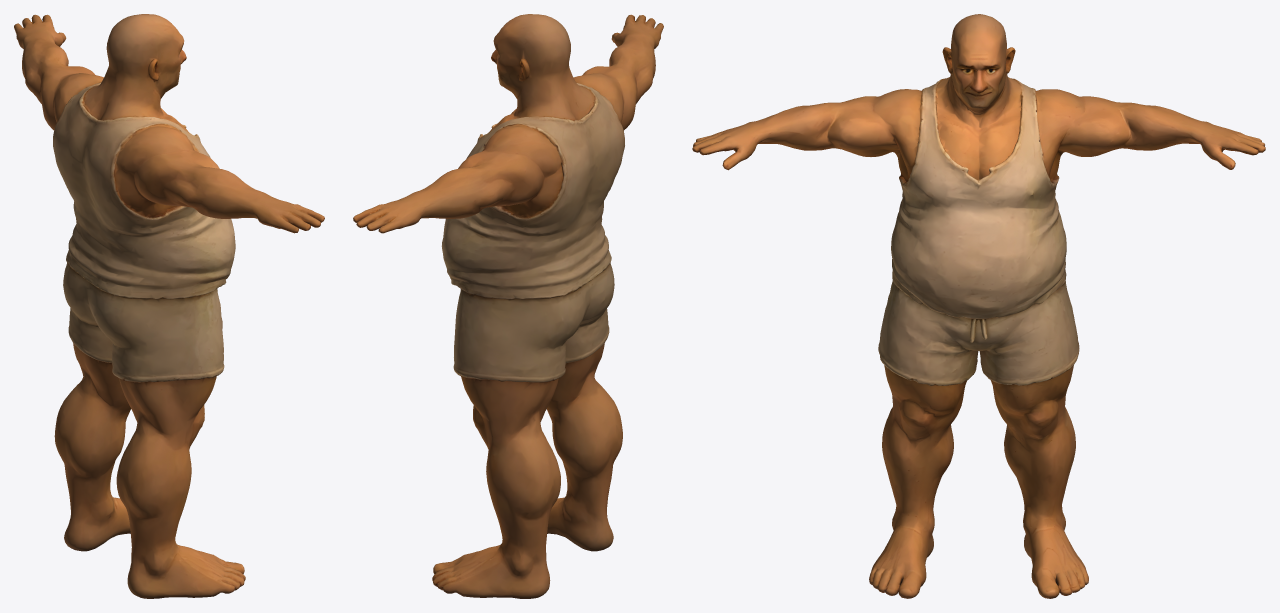
3 renders of one model, left to right at view 1: azimuth 30°, elevation 25°; view 2: azimuth 150°, elevation 25°; view 3: azimuth 270°, elevation 25°, orthographic.
Visible parts, largest first — view 1: tripo_node_1e14c06b-d089-408b-80af-3027cd7ba237; view 2: tripo_node_1e14c06b-d089-408b-80af-3027cd7ba237; view 3: tripo_node_1e14c06b-d089-408b-80af-3027cd7ba237.
Part boxes in pixels (bbox=[...]): tripo_node_1e14c06b-d089-408b-80af-3027cd7ba237: bbox=[14, 14, 324, 598]; tripo_node_1e14c06b-d089-408b-80af-3027cd7ba237: bbox=[353, 14, 663, 598]; tripo_node_1e14c06b-d089-408b-80af-3027cd7ba237: bbox=[692, 14, 1265, 598].
Bounding box in the file's own units: 0.2677 × 1 × 0.9422.
1 material, 1 textured.
